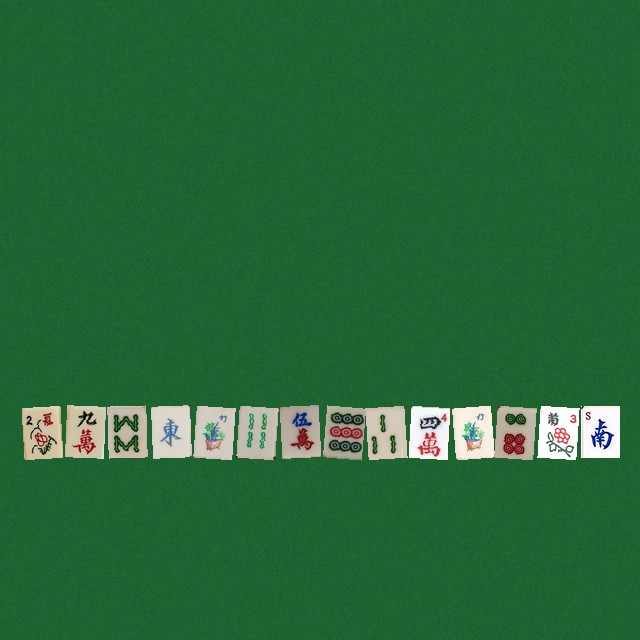tile: (21, 405, 60, 457), (64, 405, 103, 457), (107, 405, 146, 457), (150, 405, 189, 457), (193, 405, 232, 457), (236, 405, 275, 457), (279, 405, 318, 457), (322, 405, 361, 457), (365, 405, 404, 457), (408, 405, 447, 457), (451, 405, 490, 457), (494, 405, 533, 457), (537, 405, 576, 457), (580, 405, 619, 457)
